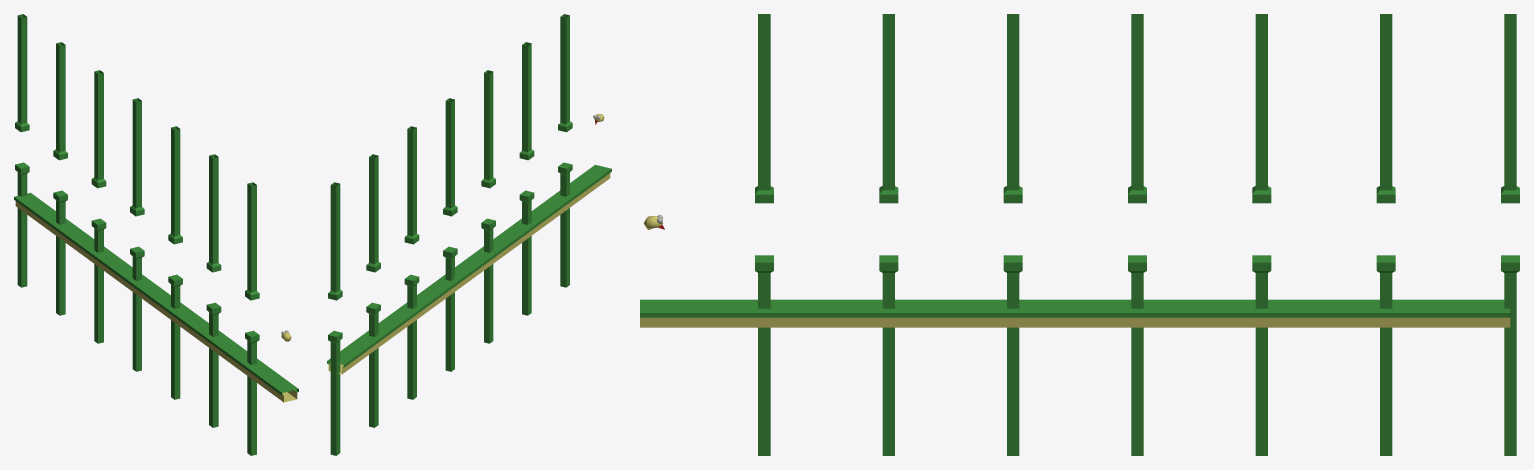
The model's file is flappyBird babylon.dae.
3 views of the same model, side by side, from view 1: azimuth 30°, elevation 25°; view 2: azimuth 150°, elevation 25°; view 3: azimuth 270°, elevation 25° (orthographic). The views are drawn at different scales.
Parts seen in each view (by area): view 1: columnas7, columnas5, columnas2, columnas, columnas4, columnas3, columnas6, suelo, suelo2, suelo6, suelo4, suelo7 (+2 smaller); view 2: columnas7, columnas5, columnas2, columnas6, columnas3, columnas, columnas4, suelo7, suelo, suelo2, suelo6, suelo4 (+2 smaller); view 3: columnas7, columnas6, columnas5, columnas2, columnas3, columnas, columnas4, suelo, suelo5, suelo2, suelo7, suelo4 (+2 smaller).
Boxes of the visible parts, x1,y1,x2,y2 form: columnas7: [15, 14, 29, 287]; columnas5: [91, 70, 106, 343]; columnas2: [206, 154, 221, 427]; columnas: [245, 182, 259, 455]; columnas4: [130, 98, 144, 371]; columnas3: [168, 126, 182, 399]; columnas6: [53, 42, 67, 315]; suelo: [244, 361, 298, 402]; suelo2: [205, 333, 259, 374]; suelo6: [52, 221, 106, 261]; suelo4: [129, 277, 183, 317]; suelo7: [14, 192, 68, 233]; columnas7: [328, 182, 342, 455]; columnas5: [404, 126, 419, 399]; columnas2: [519, 42, 534, 315]; columnas6: [366, 154, 380, 427]; columnas3: [481, 70, 495, 343]; columnas: [558, 14, 572, 287]; columnas4: [443, 98, 457, 371]; suelo7: [327, 333, 381, 374]; suelo: [557, 164, 611, 205]; suelo2: [519, 193, 573, 233]; suelo6: [366, 305, 420, 345]; suelo4: [442, 249, 496, 289]; columnas7: [1501, 14, 1519, 455]; columnas6: [1376, 14, 1395, 455]; columnas5: [1252, 14, 1271, 455]; columnas2: [879, 14, 898, 455]; columnas3: [1003, 14, 1022, 455]; columnas: [755, 14, 773, 455]; columnas4: [1128, 14, 1146, 455]; suelo: [640, 299, 764, 327]; suelo5: [1137, 299, 1261, 327]; suelo2: [764, 299, 888, 327]; suelo7: [1386, 299, 1510, 327]; suelo4: [1013, 299, 1137, 327].
Bounding box in the file's own units: 2.52 × 70.77 × 38.82.
4 materials, 4 textured.
